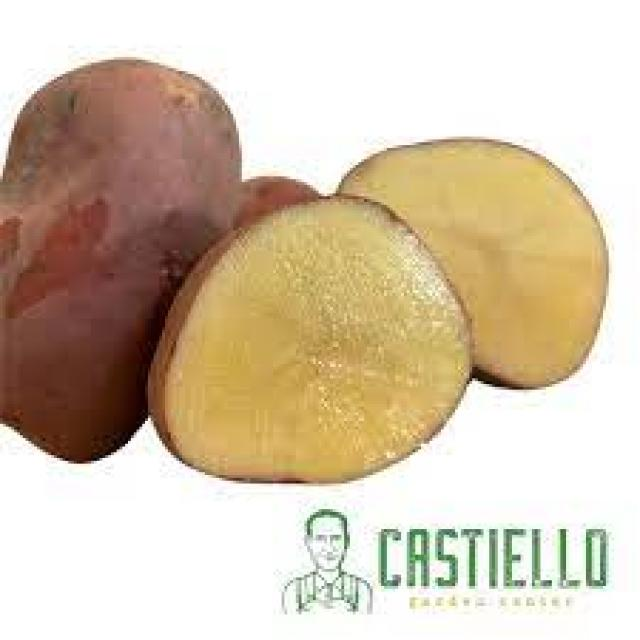Potato: (0, 34, 293, 467), (126, 185, 486, 504), (317, 132, 619, 416)
